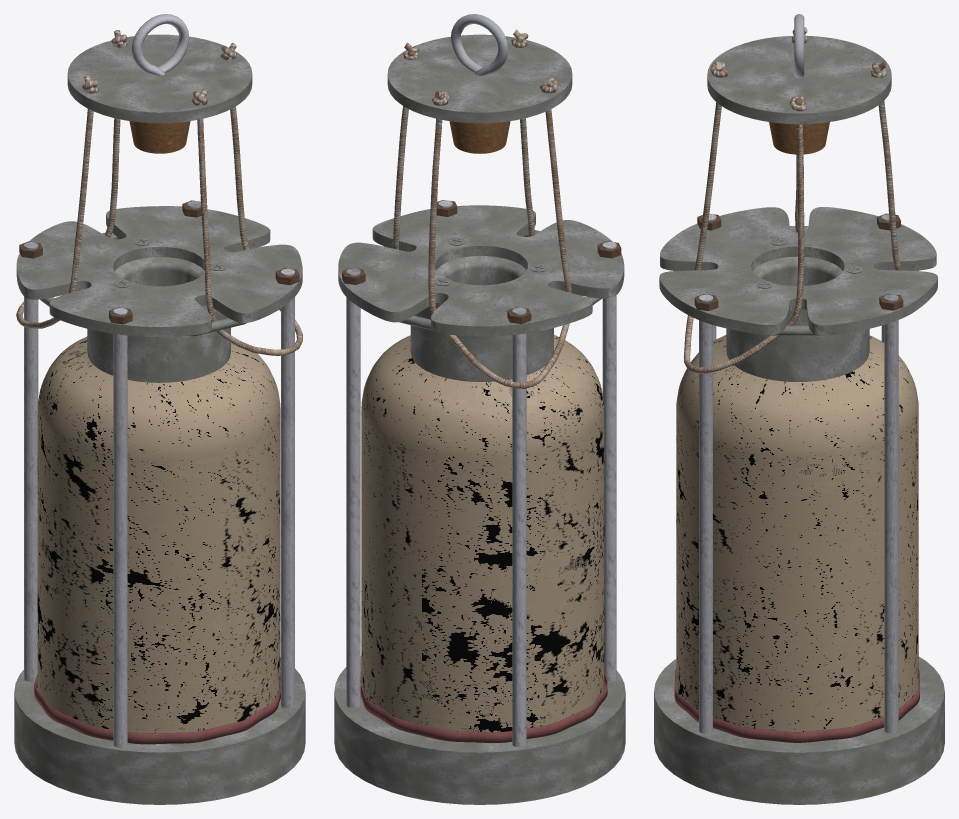
File: Qushuiqi.obj
The picture shows the model from 3 angles, left to right: view 1: azimuth 30°, elevation 25°; view 2: azimuth 150°, elevation 25°; view 3: azimuth 270°, elevation 25°; orthographic projection.
Parts seen in each view (by area): view 1: polySurface14; view 2: polySurface14; view 3: polySurface14.
Boxes of the visible parts, x1=… form: polySurface14: x1=14, y1=14, x2=305, y2=804; polySurface14: x1=334, y1=14, x2=625, y2=804; polySurface14: x1=654, y1=14, x2=944, y2=804.
Size of the model in its own units: 19.5 by 53.81 by 19.5.
7 materials, 7 textured.
